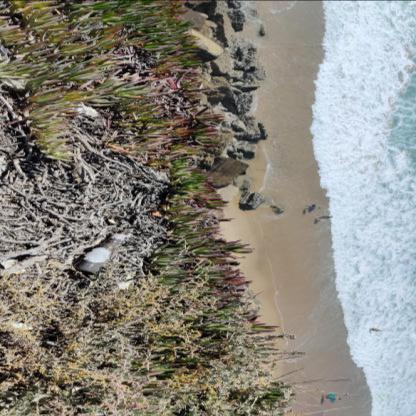Bottle cap: (75, 230, 130, 275)
Paper: (71, 102, 99, 117)
Plastic bag - wrapper: (1, 258, 15, 269)
Unlabeled litter: (13, 323, 32, 328)
